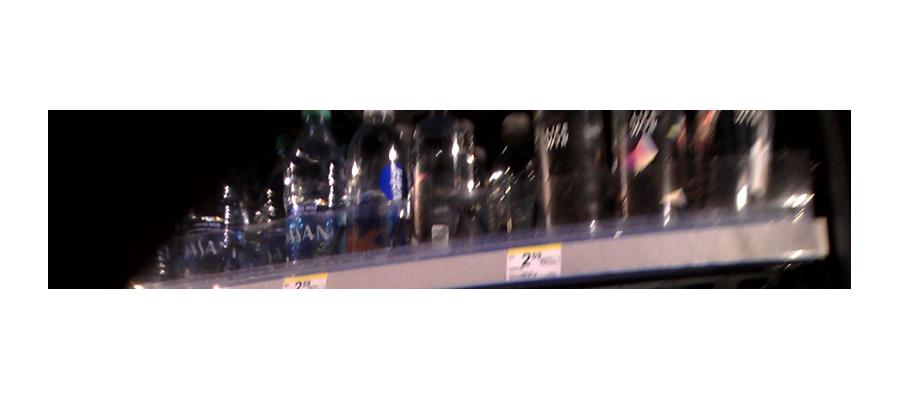bottle: (282, 107, 342, 262), (408, 114, 476, 240), (345, 117, 405, 251), (171, 162, 239, 273), (478, 118, 533, 236), (618, 107, 667, 222), (738, 104, 784, 219)
